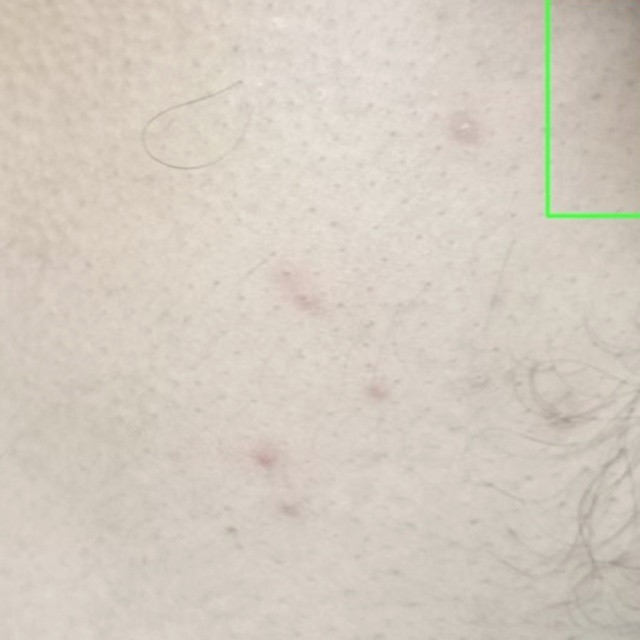Eczema: (547, 0, 639, 215)
